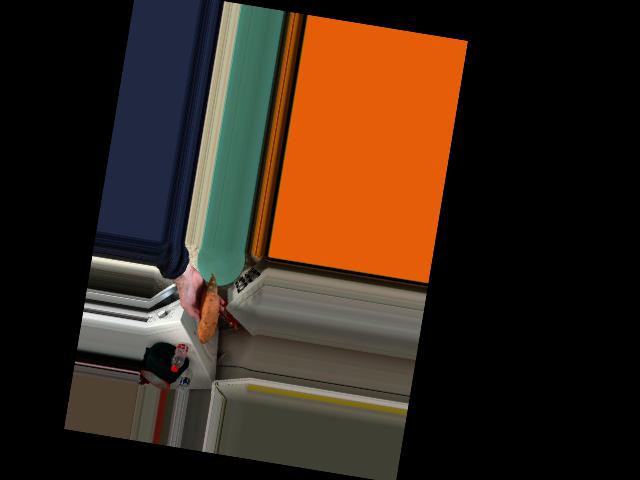sweet_potato: (191, 285, 219, 336)
